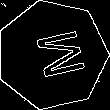M_W: (22, 27, 83, 83)
